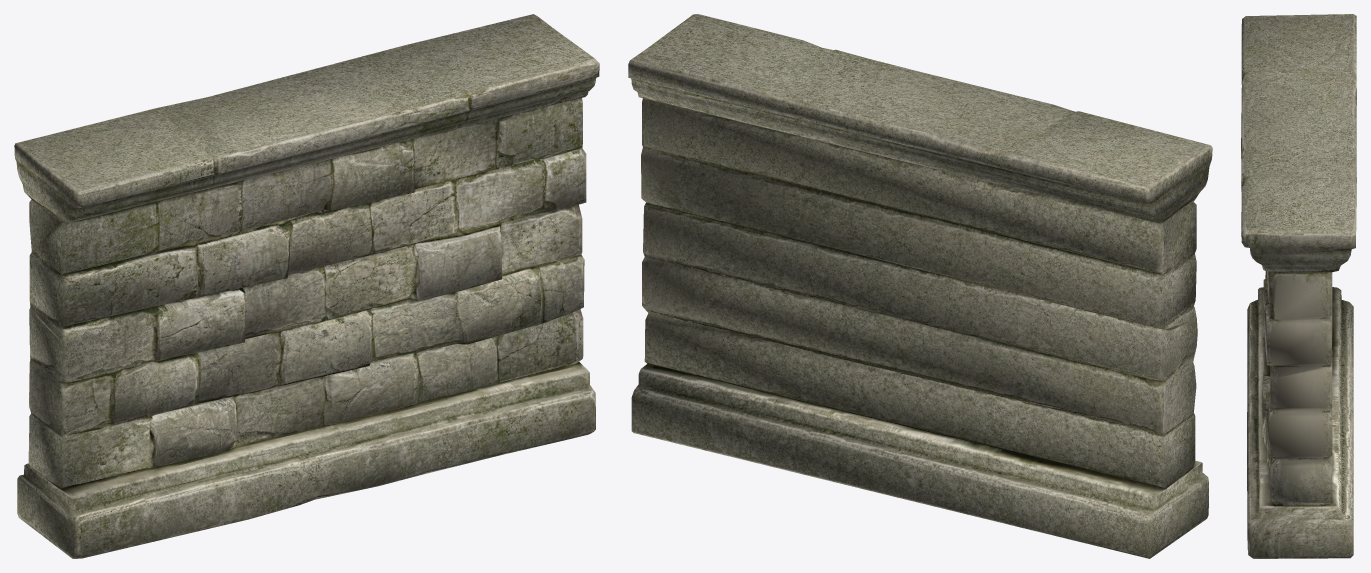
The model's file is muro_modulo.glb.
The picture shows the model from 3 angles, left to right: view 1: azimuth 30°, elevation 25°; view 2: azimuth 150°, elevation 25°; view 3: azimuth 270°, elevation 25°; orthographic projection. The views are drawn at different scales.
Visible parts, largest first — view 1: muro_modulo; view 2: muro_modulo; view 3: muro_modulo.
Boxes of the visible parts, x1,y1,x2,y2 form: muro_modulo: [14, 14, 599, 558]; muro_modulo: [628, 14, 1212, 558]; muro_modulo: [1241, 14, 1356, 558].
Bounding box in the file's own units: 0.9995 × 0.688 × 0.2202.
1 material, 1 textured.
